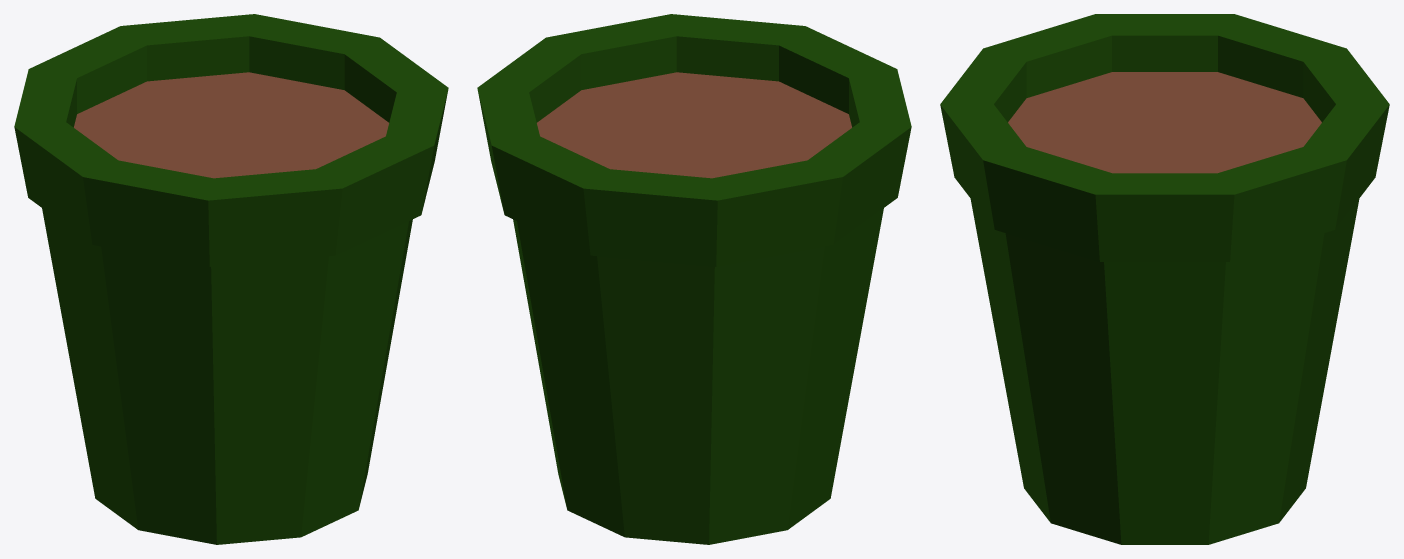
The model's file is Pot_3_vc.fbx.
3 renders of one model, left to right at view 1: azimuth 30°, elevation 25°; view 2: azimuth 150°, elevation 25°; view 3: azimuth 270°, elevation 25°, orthographic.
Parts seen in each view (by area): view 1: Pot_3_vc; view 2: Pot_3_vc; view 3: Pot_3_vc.
Part boxes in pixels (<box>): Pot_3_vc: <box>14,14,448,544</box>; Pot_3_vc: <box>477,14,911,544</box>; Pot_3_vc: <box>940,14,1389,544</box>.
Bounding box in the file's own units: 0.7897 × 0.7823 × 0.8304.
